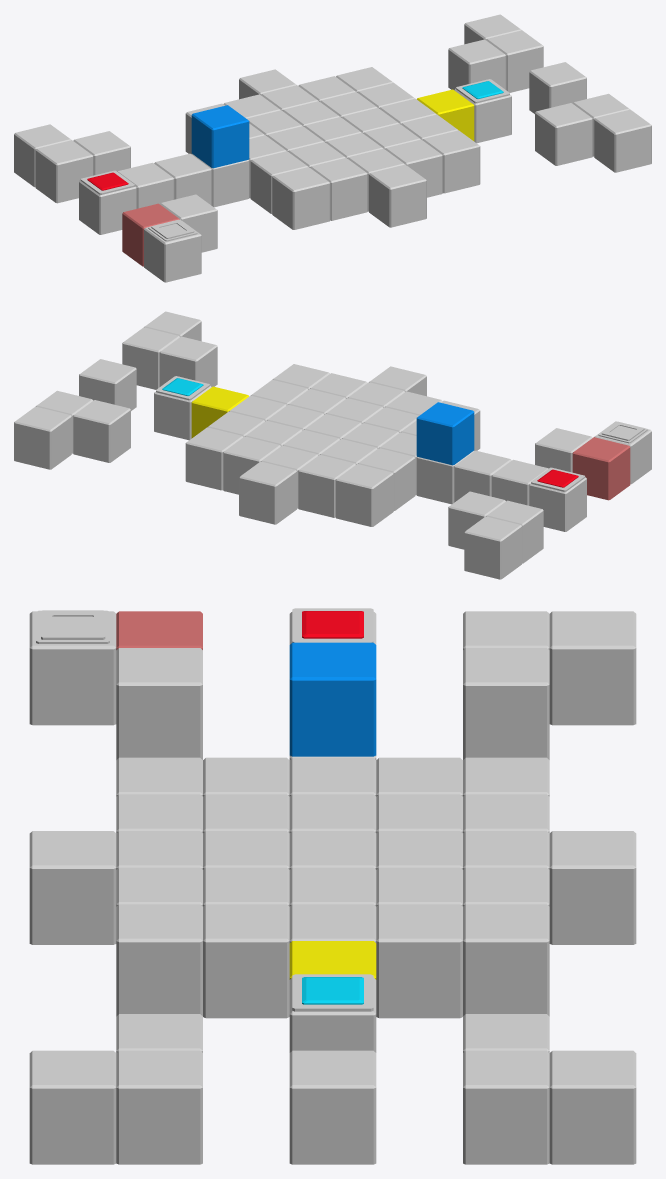
The model's file is map1.fbx.
3 renders of one model, top to bottom at view 1: azimuth 30°, elevation 25°; view 2: azimuth 150°, elevation 25°; view 3: azimuth 270°, elevation 25°, orthographic. The views are drawn at different scales.
Parts seen in each view (by area): view 1: blue_block, Grass_01__10_, Grass_01__19_, Grass_01__33_, Grass_01__40_, Grass_01__38_, Grass_01__39_, Grass_01__20_, Grass_01__11_, Grass_01__32_, Grass_01__44_, Grass_01__43_ (+39 smaller); view 2: blue_block, Grass_01__16_, Grass_01__42_, Grass_01__20_, Grass_01__34_, Grass_01__41_, red_block, Grass_01__19_, Grass_01__25_, Grass_01__30_, Grass_01__44_, Grass_01__43_ (+39 smaller); view 3: blue_block, Grass_01__40_, Grass_01__41_, Grass_01__44_, Grass_01__42_, Grass_01__33_, Grass_01__34_, Grass_01__12_, Grass_01__26_, Grass_01__36_, Grass_01__37_, Grass_01__11_ (+36 smaller).
Boxes of the visible parts, x1,y1,x2,y2 form: blue_block: (191,105,249,168); Grass_01__10_: (272,167,330,229); Grass_01__19_: (535,103,592,165); Grass_01__33_: (369,164,426,227); Grass_01__40_: (594,109,651,172); Grass_01__38_: (35,140,93,203); Grass_01__39_: (144,219,201,282); Grass_01__20_: (448,39,506,89); Grass_01__11_: (422,130,480,193); Grass_01__32_: (310,158,367,220); Grass_01__44_: (529,62,586,113); Grass_01__43_: (79,180,136,234); blue_block: (416,402,474,465); Grass_01__16_: (335,464,393,526); Grass_01__42_: (464,516,521,579); Grass_01__20_: (73,400,130,462); Grass_01__34_: (239,461,296,524); Grass_01__41_: (14,406,71,469); red_block: (572,437,630,500); Grass_01__19_: (159,336,217,386); Grass_01__25_: (185,427,243,490); Grass_01__30_: (298,455,355,517); Grass_01__44_: (79,359,136,410); Grass_01__43_: (529,477,586,531); blue_block: (289,642,376,756); Grass_01__40_: (29,1050,116,1164); Grass_01__41_: (549,1050,636,1164); Grass_01__44_: (289,1050,376,1164); Grass_01__42_: (549,611,636,725); Grass_01__33_: (29,831,116,944); Grass_01__34_: (549,831,636,944); Grass_01__12_: (203,904,289,1018); Grass_01__26_: (376,904,462,1018); Grass_01__36_: (116,1050,202,1164); Grass_01__37_: (463,1050,549,1164); Grass_01__11_: (116,904,202,1016).
Size of the model in its own units: 13 by 3 by 7.
